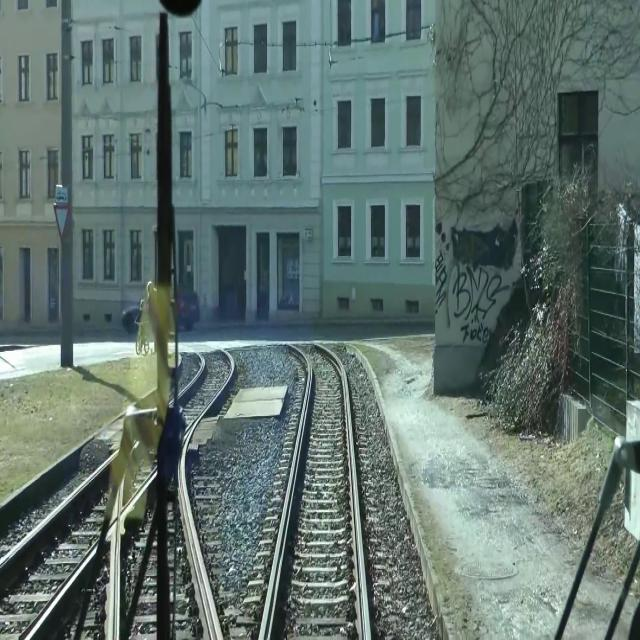rail-track: (265, 343, 365, 639), (0, 494, 77, 639), (0, 443, 90, 556), (189, 540, 218, 639), (194, 350, 230, 412)
